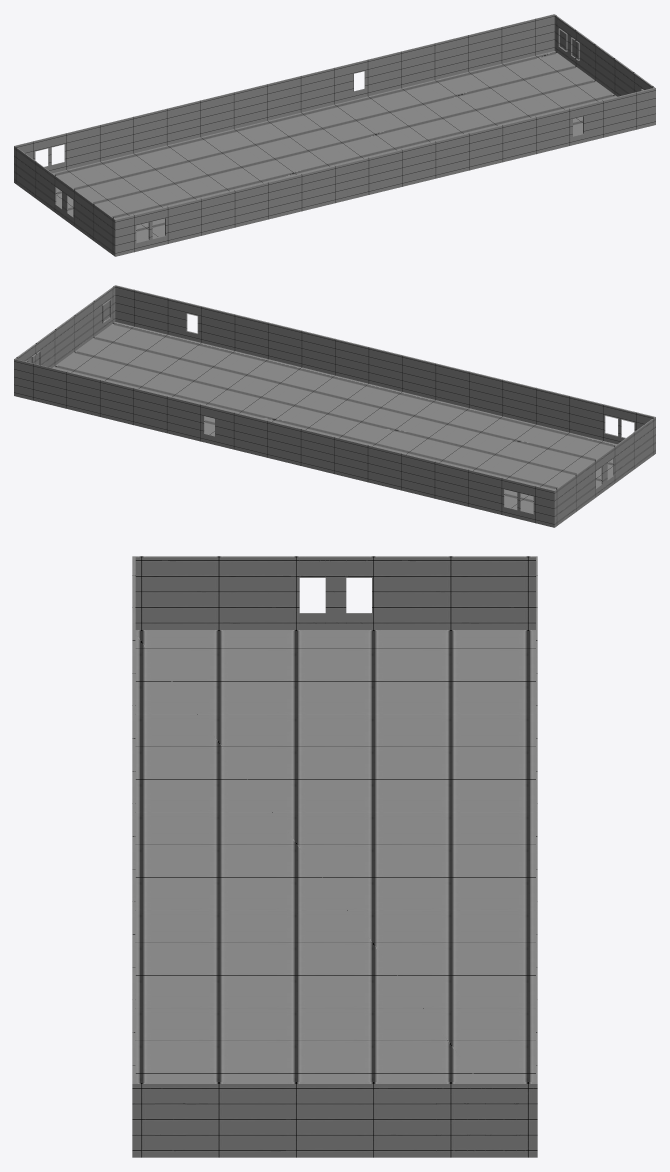
Rendered from Room9EWall.obj.
3 views of the same model, one above another, from view 1: azimuth 30°, elevation 25°; view 2: azimuth 150°, elevation 25°; view 3: azimuth 270°, elevation 25° (orthographic). The views are drawn at different scales.
Visible parts, largest first — view 1: Room9Wall; view 2: Room9Wall; view 3: Room9Wall.
Part boxes in pixels (x1,y1,x2,y2): Room9Wall: (14,14,655,256); Room9Wall: (14,285,655,527); Room9Wall: (132,556,537,1157).
Bounding box in the file's own units: 72.68 × 4.72 × 23.59.
1 material, 1 textured.
